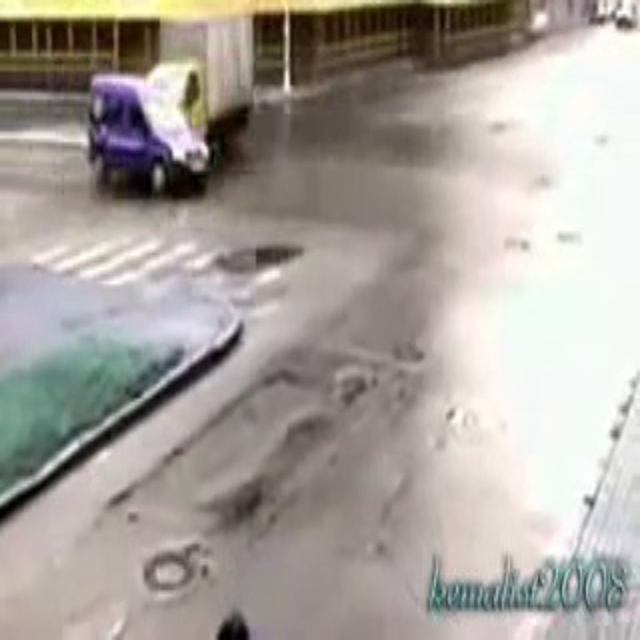acc: (77, 41, 238, 201)
